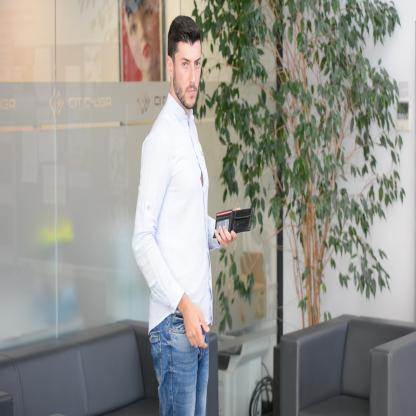monedero: (212, 206, 254, 239)
